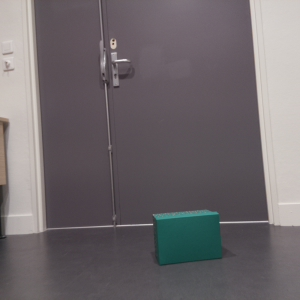small: (152, 209, 225, 266)
